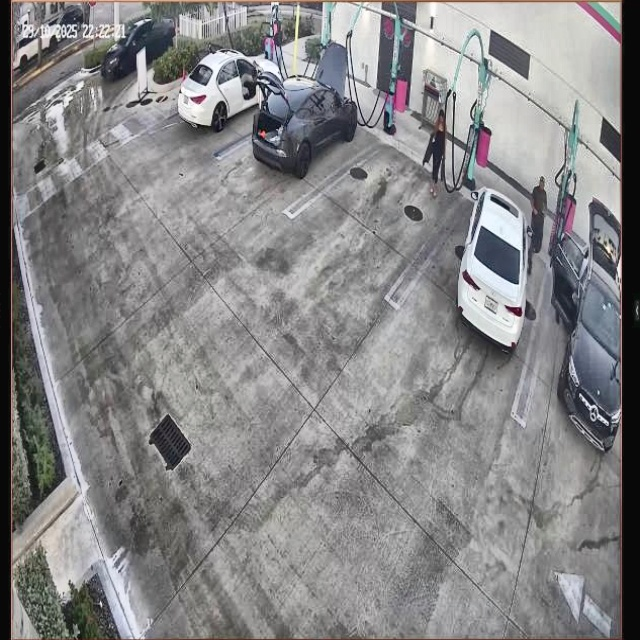Car: (452, 181, 536, 355), (254, 46, 359, 181)
